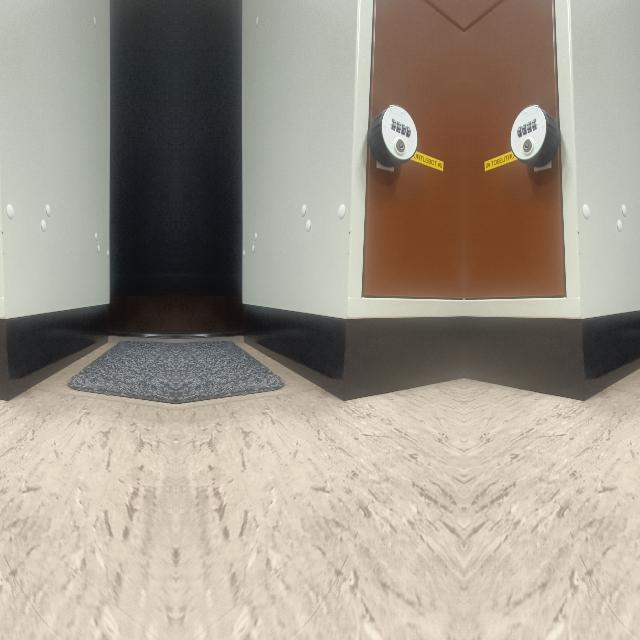obstacle: (230, 44, 462, 400), (465, 44, 640, 400), (0, 44, 119, 400)
